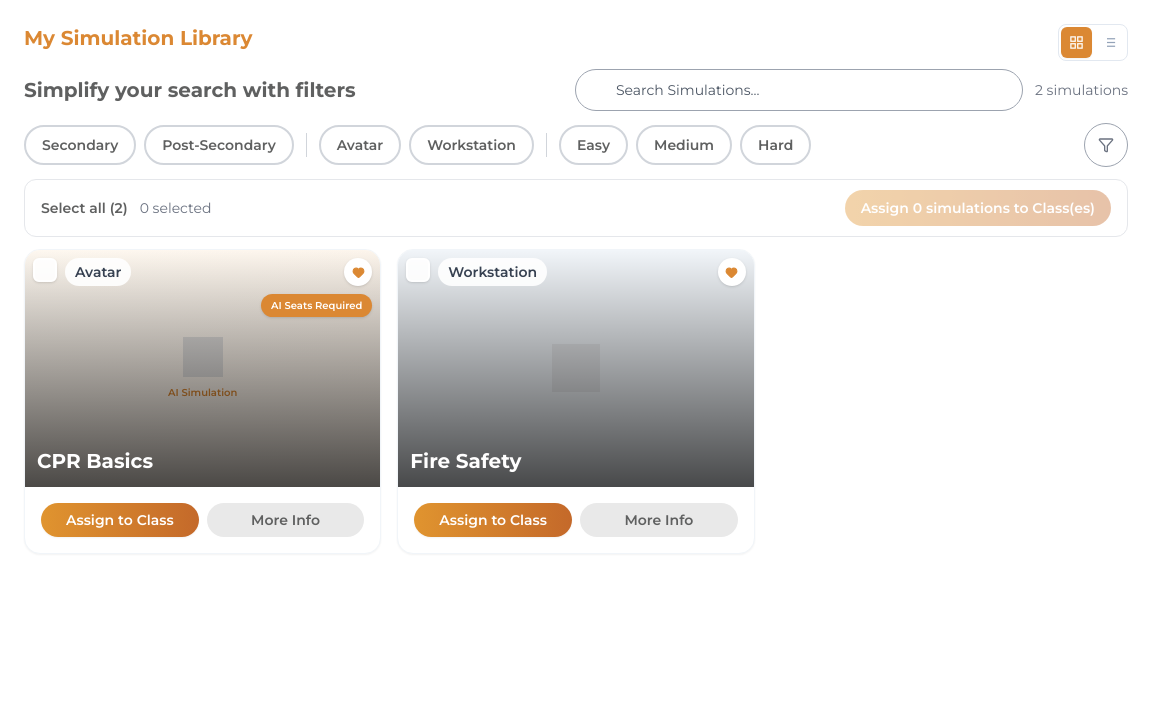
Simulation Library Page + Modal Integration › AddSimulationModal — open / close flow › closes AddSimulationModal when close/cancel is clicked
Click the button "Assign to Class" below "CPR Basics" at (120, 520), box left=41, top=503, right=199, bottom=537
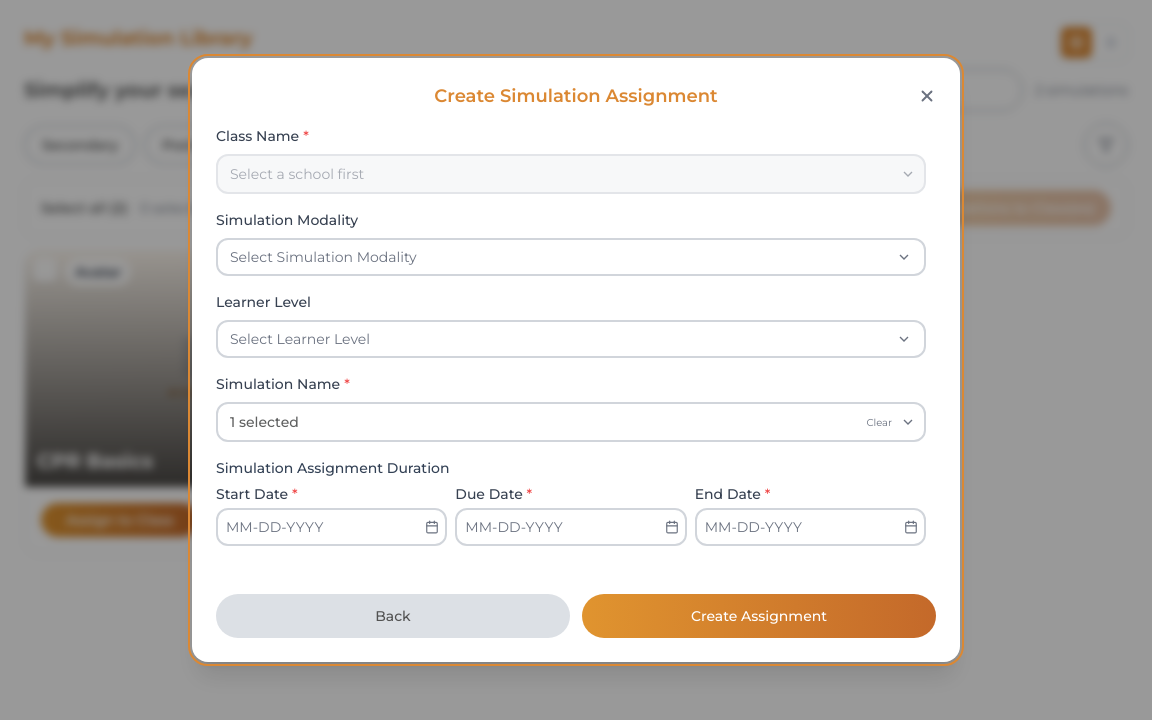
Check: the dialog "Create Simulation Assignment" is shown, box left=192, top=58, right=960, bottom=662
Click the button named "close" at (927, 96), box left=918, top=87, right=936, bottom=105
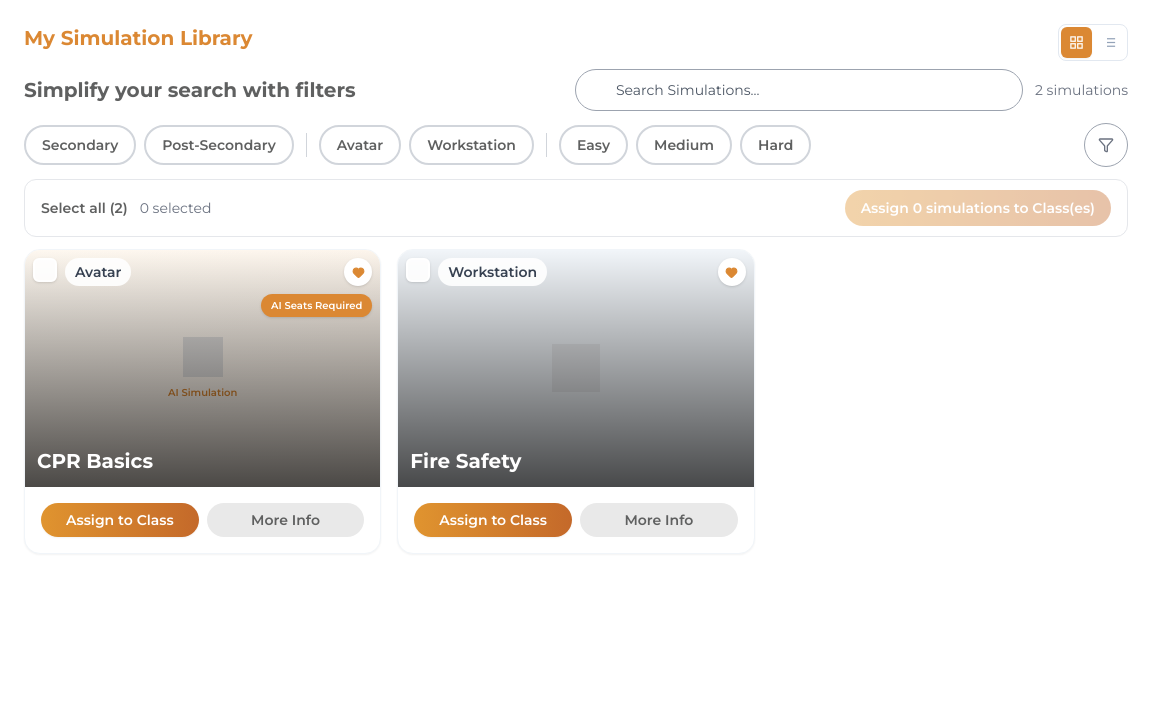
Check: the heading "Create Simulation Assignment" is gone
